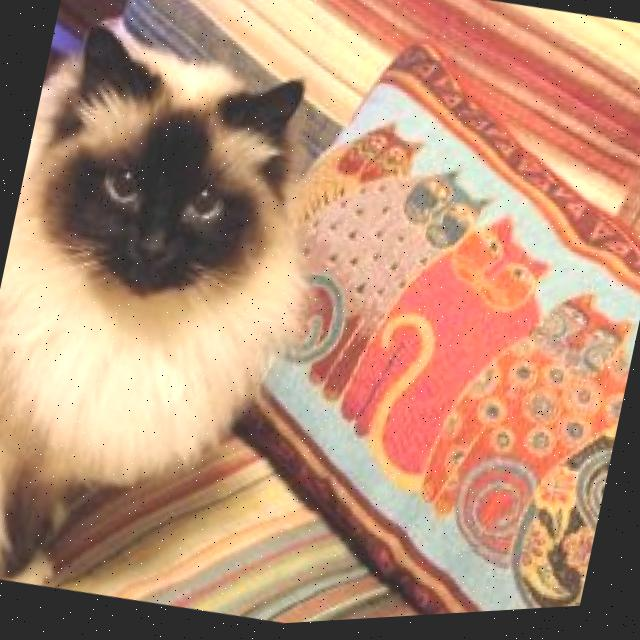Birman: (0, 0, 356, 630)
